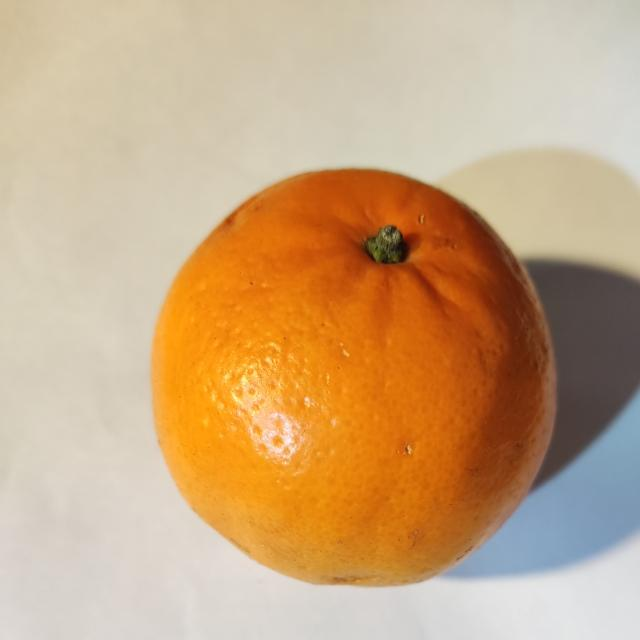orange: (153, 170, 555, 585)
